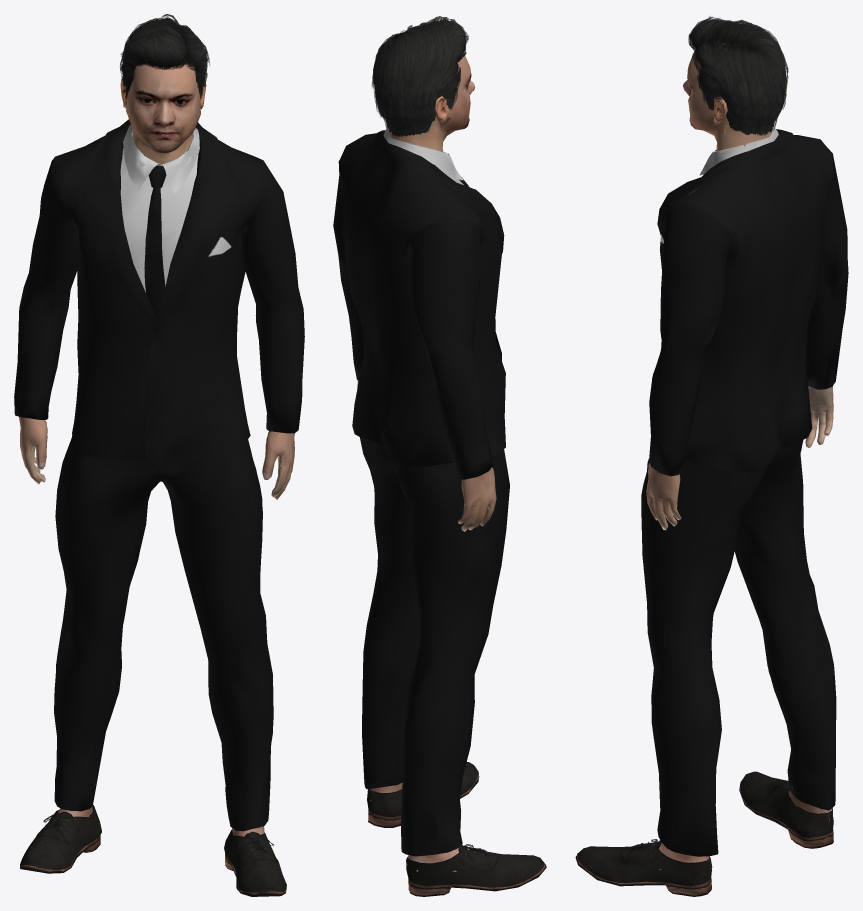
File: sf_man_suit.glb
3 renders of one model, left to right at view 1: azimuth 30°, elevation 25°; view 2: azimuth 150°, elevation 25°; view 3: azimuth 270°, elevation 25°, orthographic.
Visible parts, largest first — view 1: sf_man_suit; view 2: sf_man_suit; view 3: sf_man_suit.
Part boxes in pixels (box(x1,y1,x2,y2)): sf_man_suit: box(14, 14, 304, 896); sf_man_suit: box(333, 16, 546, 896); sf_man_suit: box(575, 16, 848, 896).
Bounding box in the file's own units: 0.5236 × 1.74 × 0.512.
Materials: 5 (5 with a texture image).
